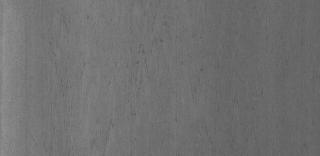silk spot: (98, 9, 206, 109)
